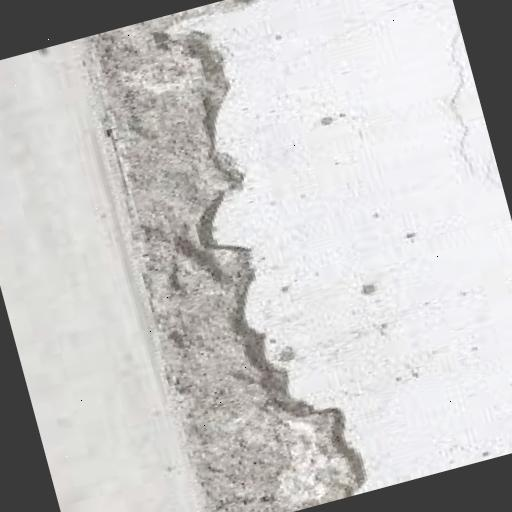spalling: (87, 0, 365, 512)
